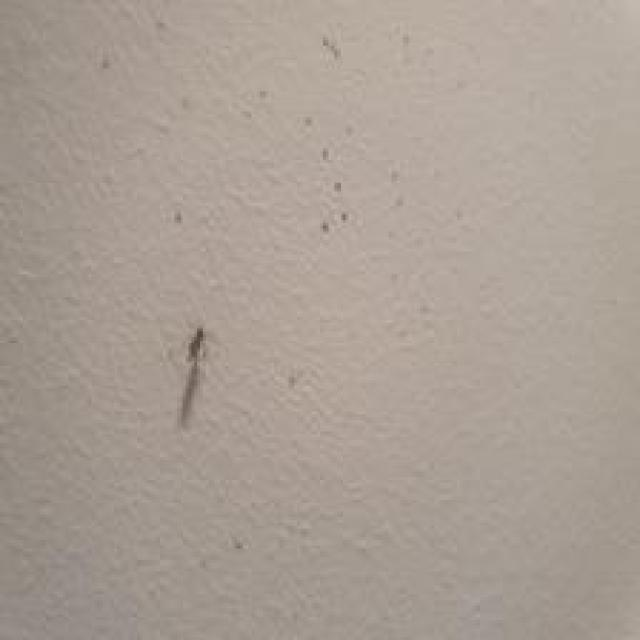Culex: (174, 324, 209, 427)
